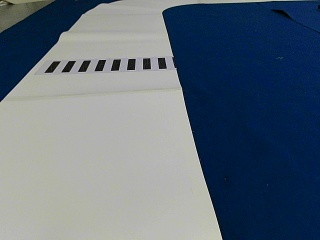crosswalk: (44, 56, 165, 72)
